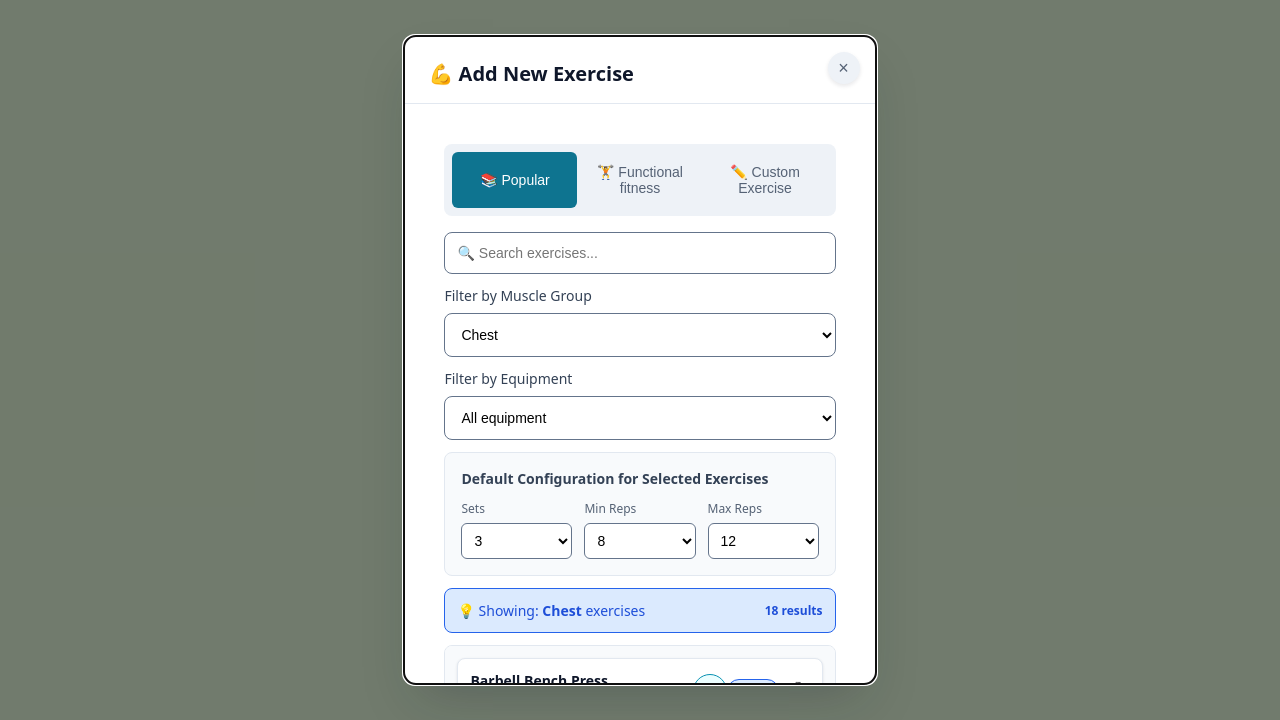
Test: AddExerciseModal equipment filter › finds functional movements across the preselected muscle group and filters ring equipment
The image size is (1280, 720).
Click the button "🏋 Functional fitness": (640, 180) [578, 152, 702, 208]
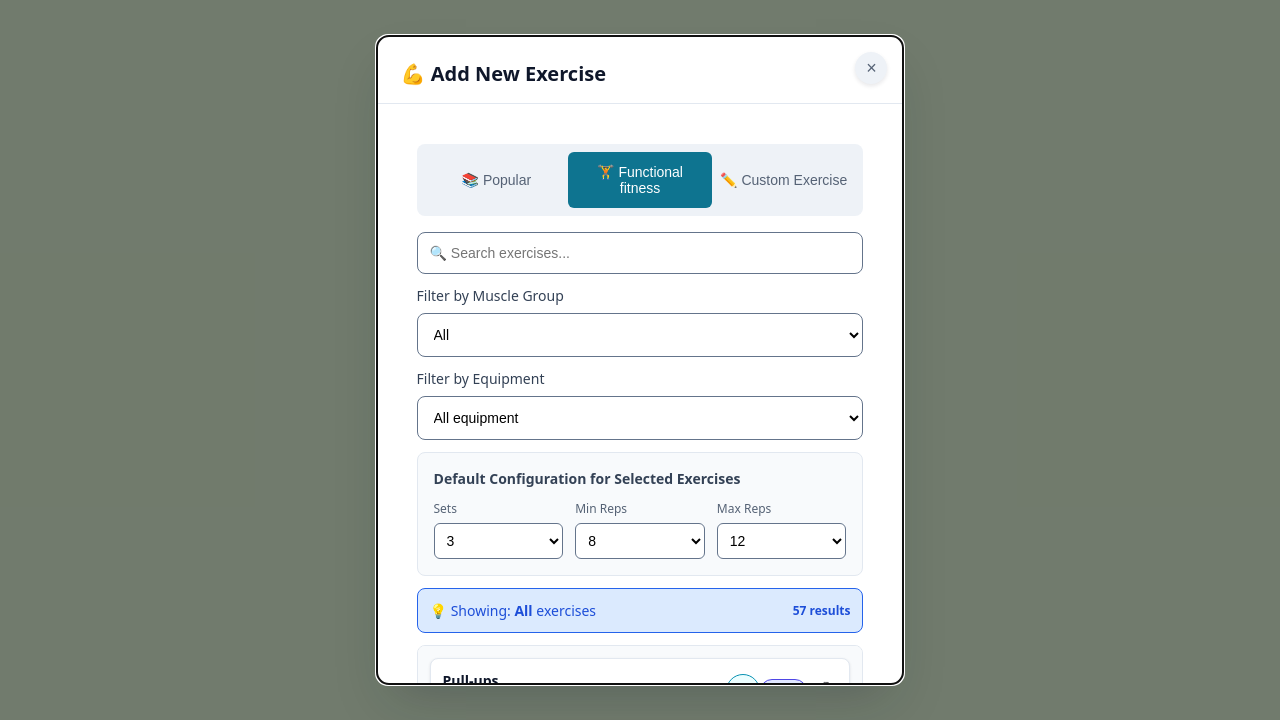
Select "Rings" in the dropdown named "Filter by Equipment": (640, 418) [416, 396, 864, 440]
(page scrolled)
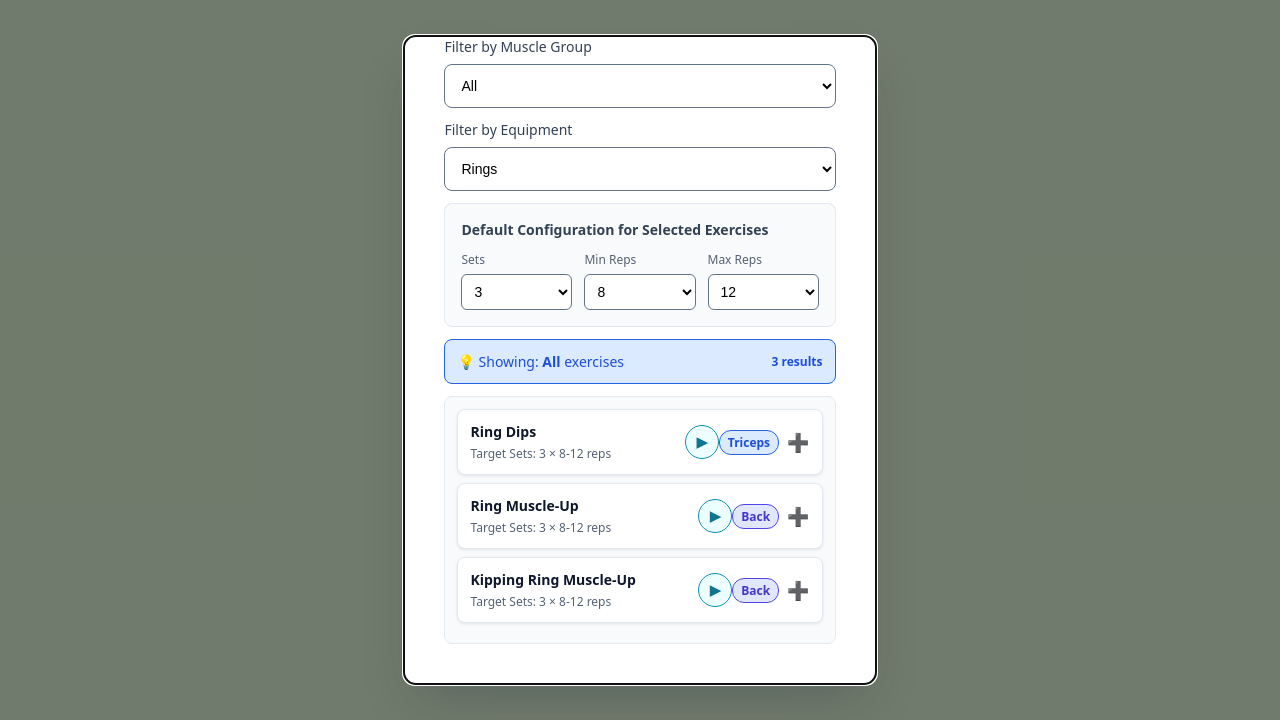
Check: the text "Ring Muscle-Up" is shown, box [470, 496, 579, 515]
